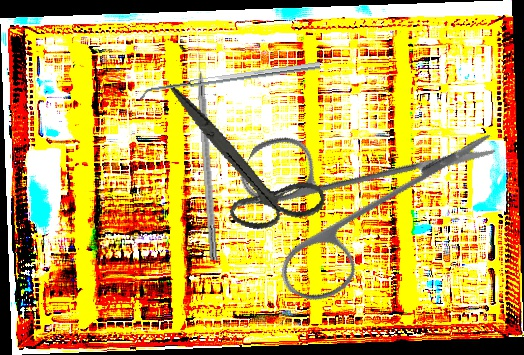Hook Surgical: (193, 38, 220, 261)
Iris Scissors: (206, 49, 500, 345), (141, 84, 343, 244)
Spatula Surgical: (138, 61, 322, 102)
